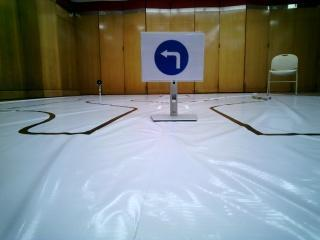left: (140, 35, 210, 83)
